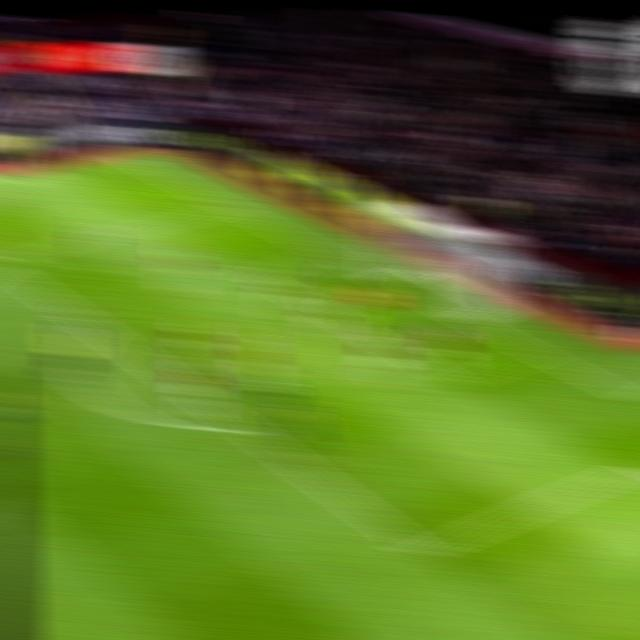bigarea_bottom_inner: (400, 533, 446, 567)
bigarea_top_inner: (0, 247, 12, 269)
bigarea_top_outter: (212, 197, 248, 217)
bottom_arc_area_intersection: (228, 417, 268, 443)
corner: (107, 148, 148, 165)
smallarea_bottom_inner: (436, 364, 476, 393)
smallarea_bottom_outter: (518, 340, 558, 365)
smallarea_top_inner: (235, 261, 274, 284)
smallarea_top_outter: (308, 242, 348, 266)
top_arc_area_intersection: (76, 317, 116, 338)
